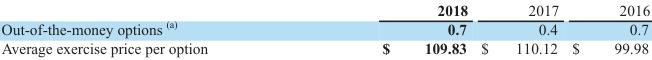table: (0, 1, 649, 56)
table column: (0, 1, 294, 56), (294, 1, 473, 56), (473, 1, 564, 56), (564, 1, 649, 56)
table column header: (0, 1, 649, 18)
table row: (0, 18, 649, 38), (0, 38, 649, 56), (0, 1, 649, 18)
